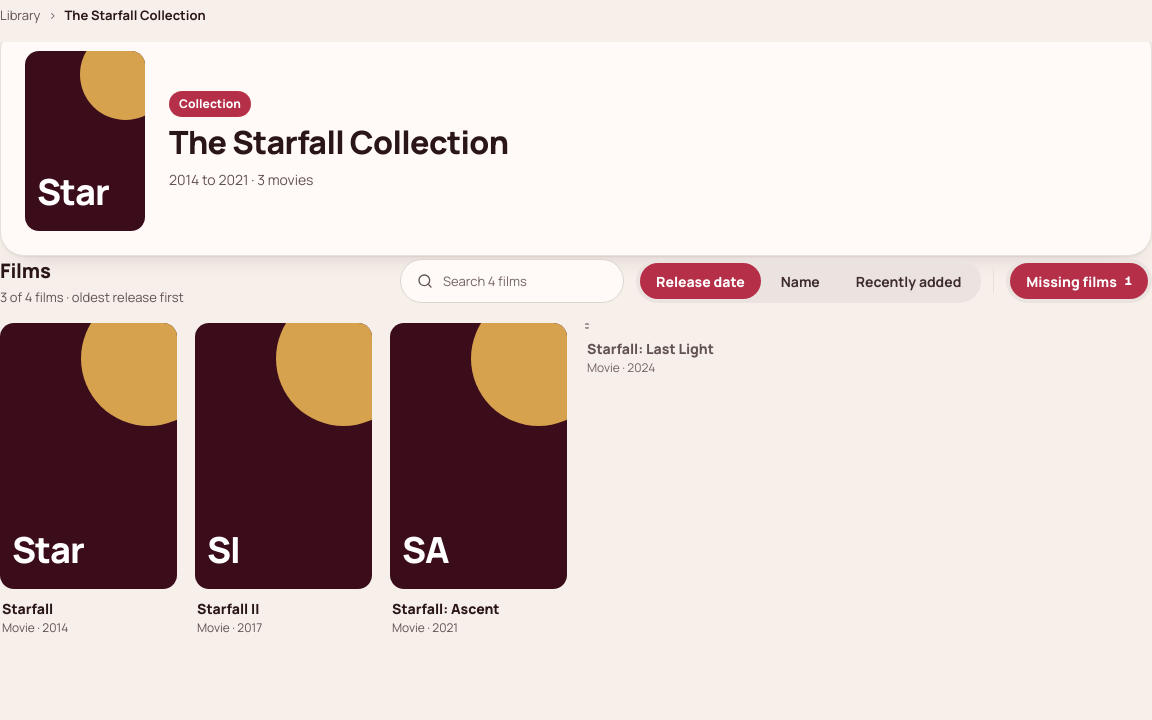
Scenario: FranchisePage › opens a film the library lacks to say what TMDB knows of it
The width and height of the screenshot is (1152, 720).
Step 1. Click the button with aria-label "Starfall: Last Light: not in library" → (674, 350), box [585,323,762,377]
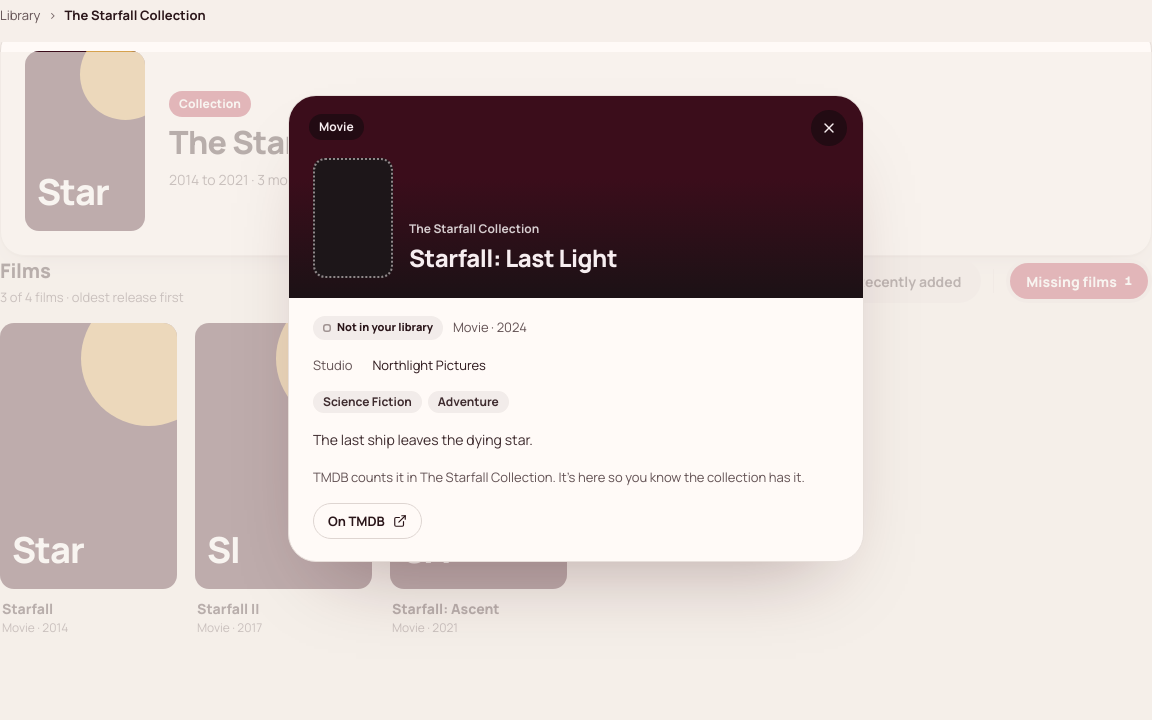
Expected: the dialog "Starfall: Last Light" shows "Movie · 2024", [453,318,527,336]
Expected: the dialog "Starfall: Last Light" shows "Not in your library", [337,320,433,334]
Expected: the list named "Genres" reads "Science Fiction Adventure", [313,391,509,413]
Step 2. Click the button "On TMDB" → (367, 522), box [313,504,422,540]
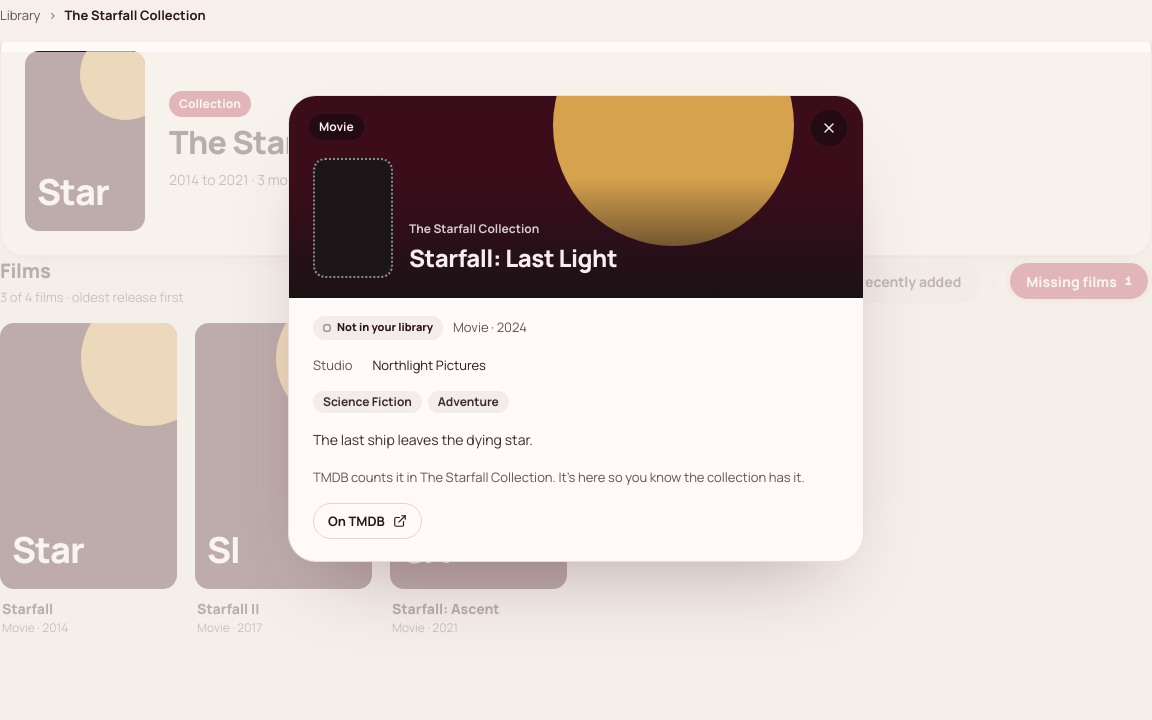
Step 3. Click the button named "Close" → (829, 128), box [811,110,847,146]
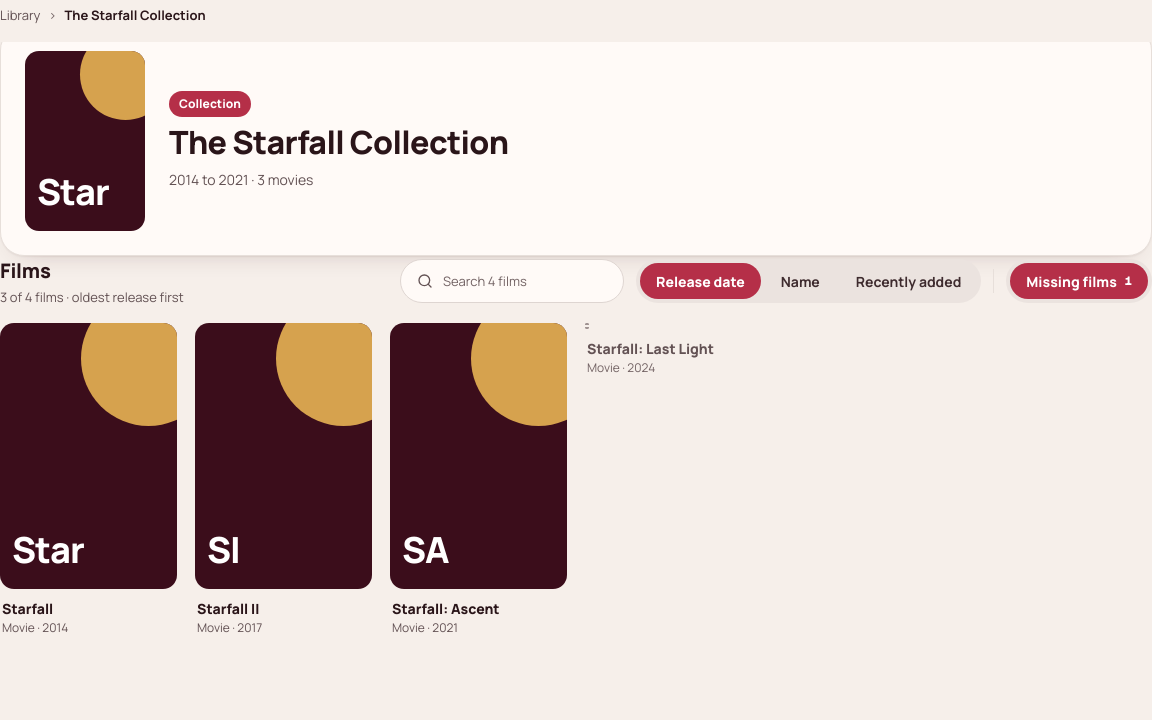
Expected: the dialog is gone
